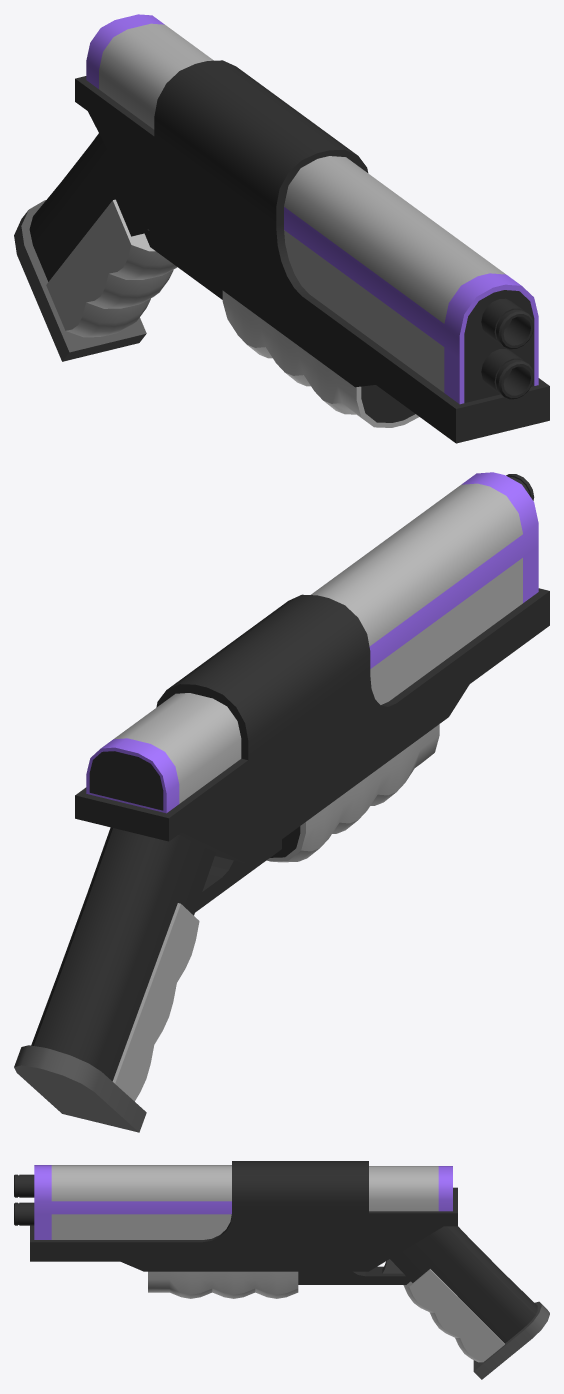
The model's file is pulse_pistol.glb.
3 views of the same model, one above another, from view 1: azimuth 30°, elevation 25°; view 2: azimuth 150°, elevation 25°; view 3: azimuth 270°, elevation 25° (orthographic). The views are drawn at different scales.
Visible parts, largest first — view 1: Cube.036; view 2: Cube.036; view 3: Cube.036.
Part boxes in pixels (x1,y1,x2,y2): Cube.036: (14,14,549,443); Cube.036: (14,472,549,1132); Cube.036: (14,1161,549,1379).
Bounding box in the file's own units: 0.0386 × 0.1429 × 0.34.
